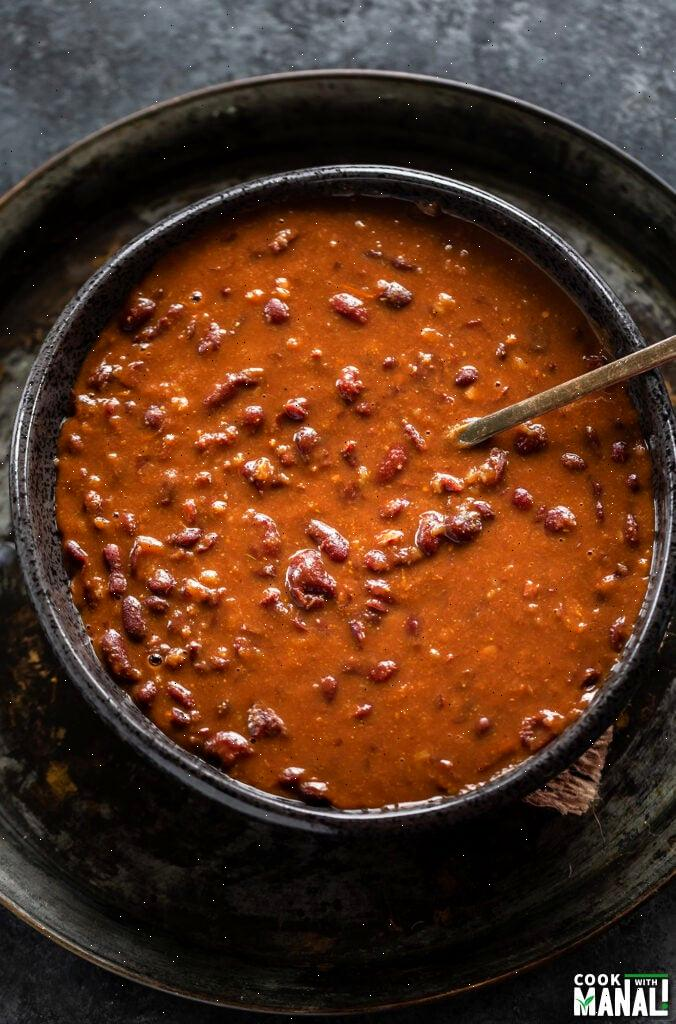rajma: (77, 252, 650, 842)
